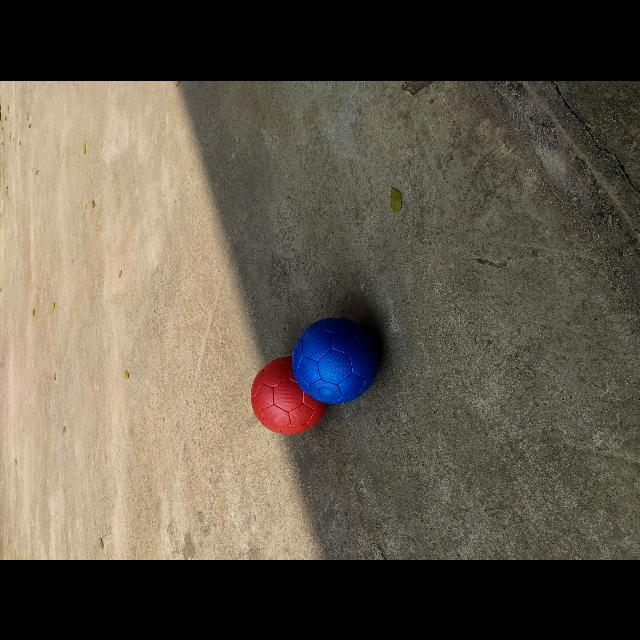B: (292, 317, 379, 403)
R: (250, 356, 326, 434)
